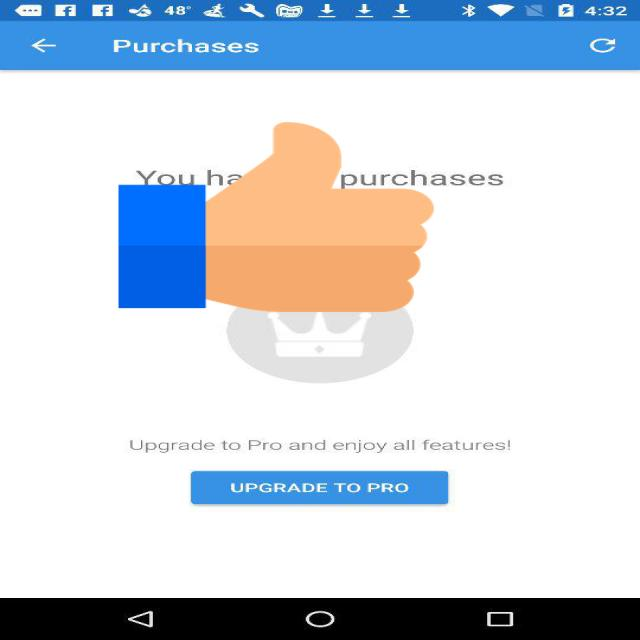privacy zuckering: (118, 117, 434, 317)
